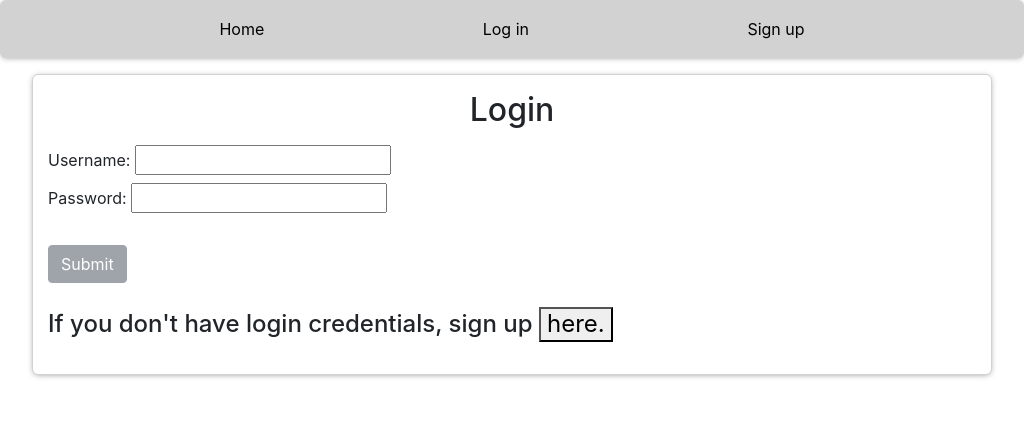
Scenario: Login app › should disable submit button until both inputs are filled out
Check: the button named "disabledButtSignup" is disabled, box x1=48 y1=245 x2=127 y2=283
Type "randomusername" into the field named "username" at (263, 160), box x1=135 y1=145 x2=391 y2=175
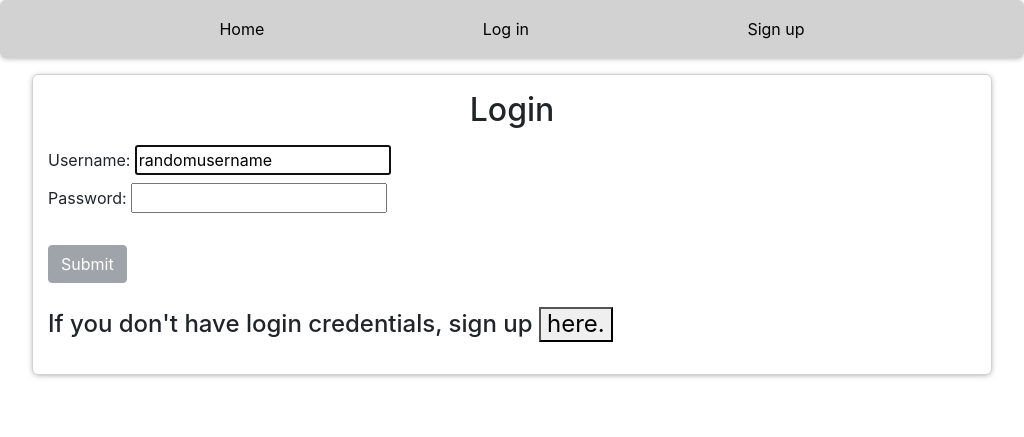
Check: the button named "disabledButtSignup" is disabled, box x1=48 y1=245 x2=127 y2=283
Type "badpassword" into the field named "password" at (259, 198), box x1=131 y1=183 x2=387 y2=213
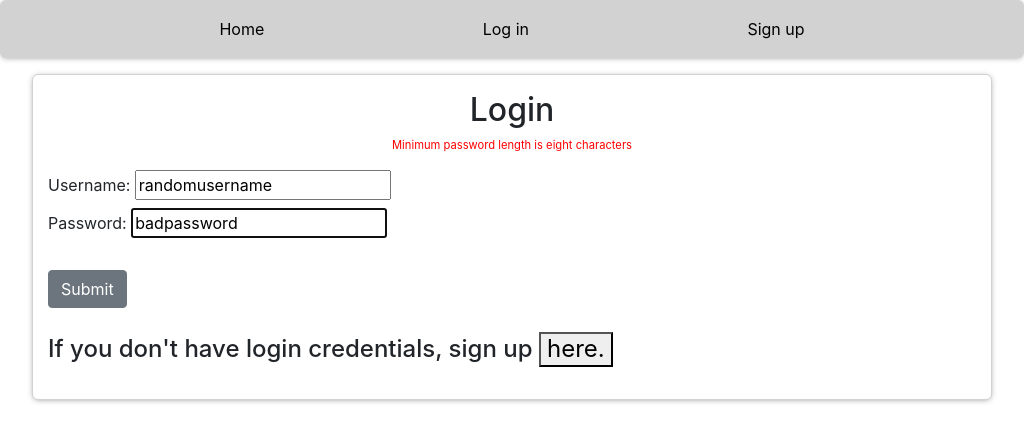
Check: the element named "disabledButtSignup" is enabled
Clear the field named "username" at (263, 185), box x1=135 y1=170 x2=391 y2=200
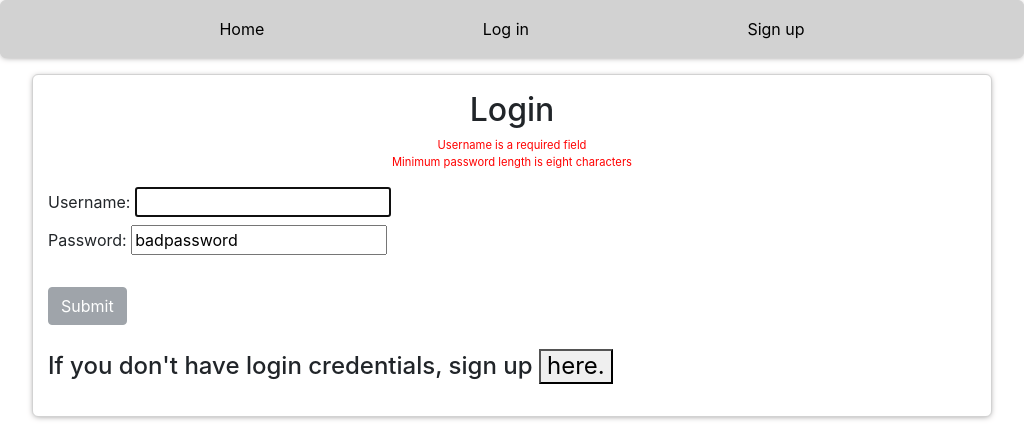
Check: the text "Username is a required field" is shown, box x1=438 y1=138 x2=586 y2=152
Clear the field named "password" at (259, 240), box x1=131 y1=225 x2=387 y2=255
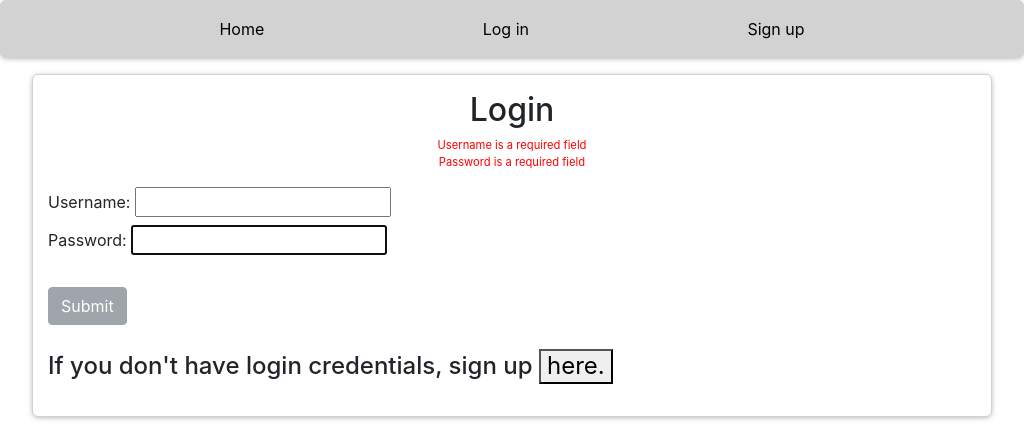
Check: the button named "disabledButtSignup" is disabled, box x1=48 y1=287 x2=127 y2=325
Check: the text "Password is a required field" is shown, box x1=439 y1=155 x2=585 y2=169
